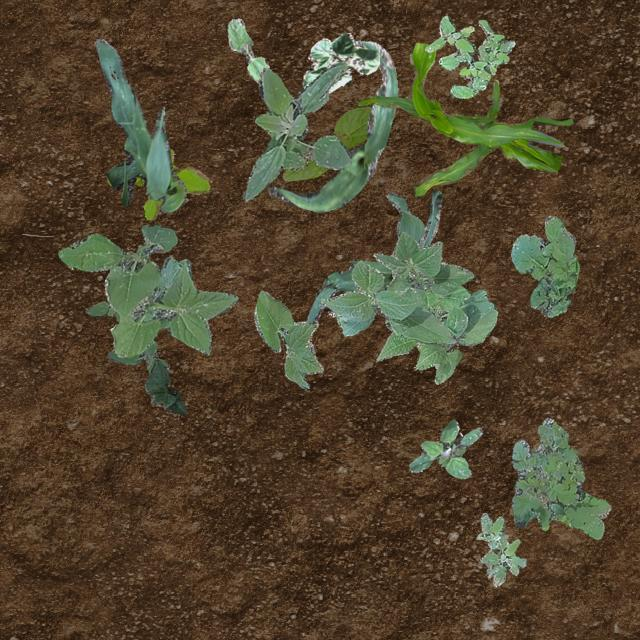crop: (356, 42, 572, 196), (268, 40, 397, 212), (306, 190, 440, 322), (320, 230, 472, 344), (94, 38, 185, 212), (376, 282, 496, 382), (252, 290, 322, 388), (282, 106, 371, 180), (302, 32, 378, 92), (226, 18, 268, 82), (144, 359, 186, 414)
weed: (56, 224, 236, 356), (242, 60, 351, 200), (510, 416, 610, 538), (424, 15, 514, 96), (509, 214, 578, 316), (84, 300, 168, 374), (132, 148, 208, 220), (408, 418, 482, 478), (476, 512, 526, 586)
